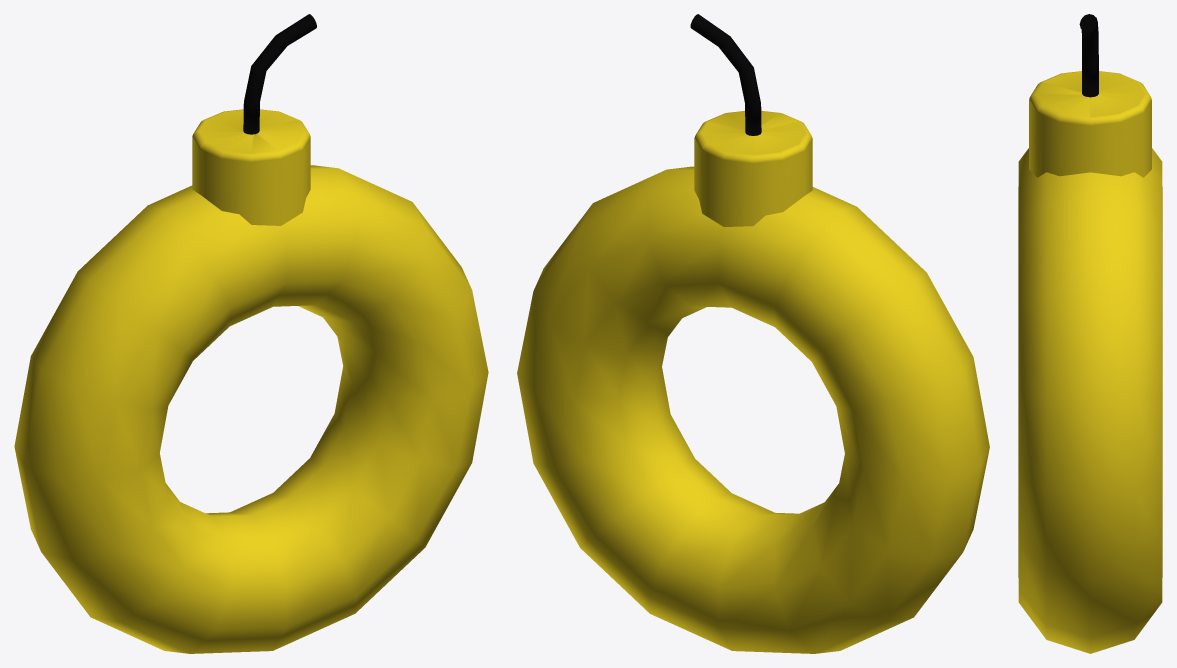
The model's file is BombRing.fbx.
3 renders of one model, left to right at view 1: azimuth 30°, elevation 25°; view 2: azimuth 150°, elevation 25°; view 3: azimuth 270°, elevation 25°, orthographic. The views are drawn at different scales.
Visible parts, largest first — view 1: Torus.001; view 2: Torus.001; view 3: Torus.001.
Boxes of the visible parts, <box> form: Torus.001: <box>14,14,488,653</box>; Torus.001: <box>517,14,989,653</box>; Torus.001: <box>1018,14,1162,653</box>.
Bounding box in the file's own units: 277 × 360 × 73.56.
